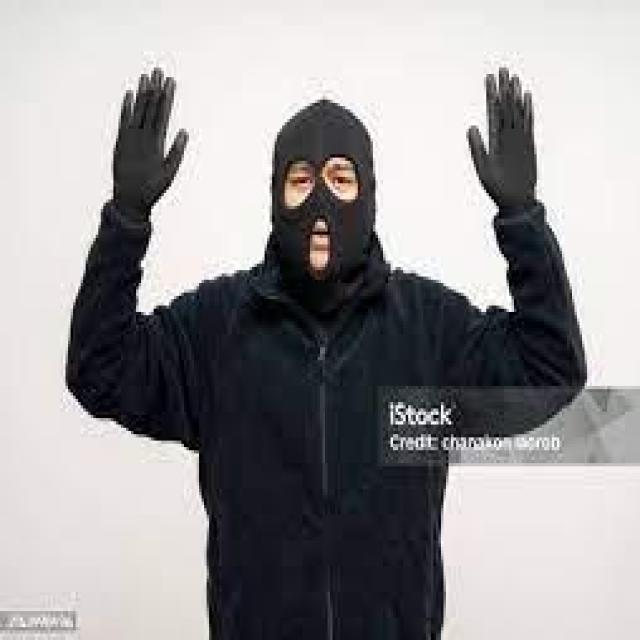6_pasamontana: (262, 94, 386, 304)
